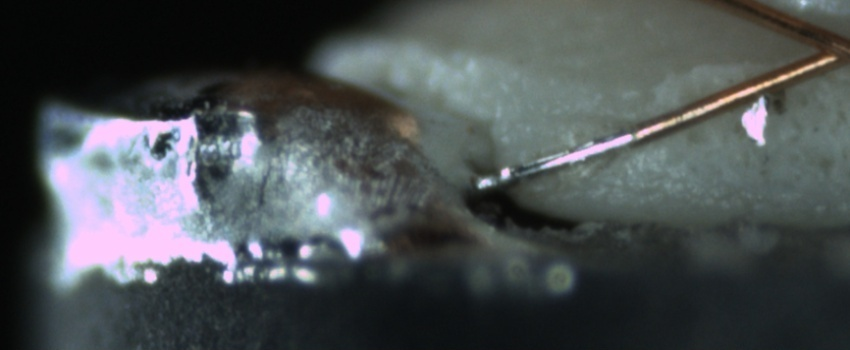CL: (790, 17, 850, 76)
TS: (468, 125, 634, 192)
